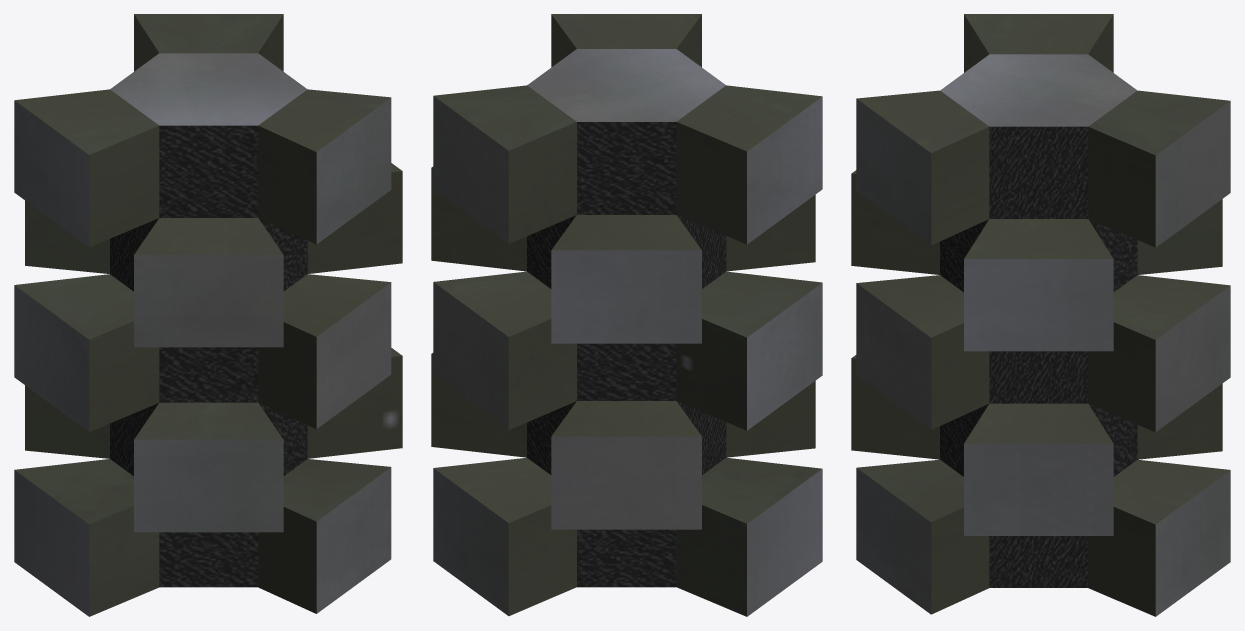
Rendered from Metal_obj01.fbx.
3 renders of one model, left to right at view 1: azimuth 30°, elevation 25°; view 2: azimuth 150°, elevation 25°; view 3: azimuth 270°, elevation 25°, orthographic.
Parts seen in each view (by area): view 1: Metal_obj01; view 2: Metal_obj01; view 3: Metal_obj01.
Part boxes in pixels (x1=…): Metal_obj01: x1=14, y1=14, x2=402, y2=616; Metal_obj01: x1=431, y1=14, x2=822, y2=616; Metal_obj01: x1=851, y1=14, x2=1230, y2=616.
Bounding box in the file's own units: 22.95 × 32.34 × 24.08.
